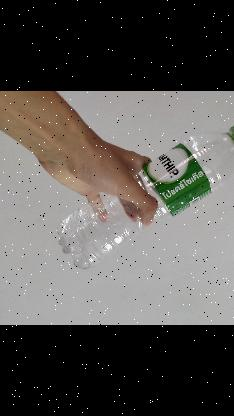Plastic Bottle: (53, 118, 234, 277)
